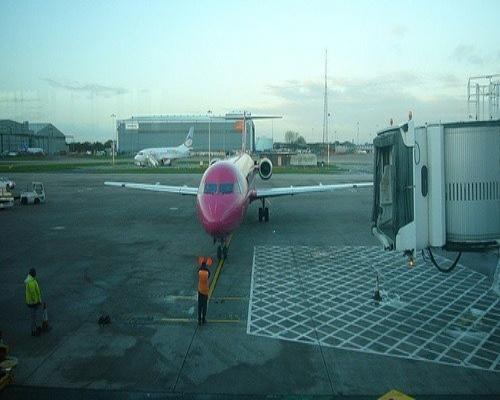plane: (104, 113, 376, 253)
